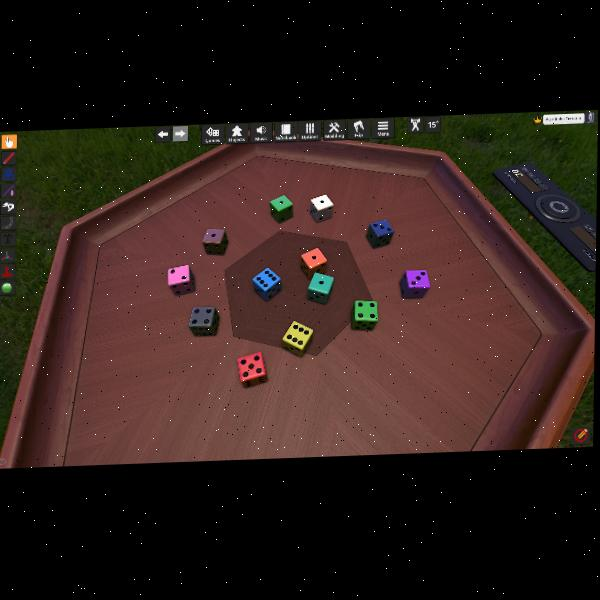d6: (252, 266, 283, 302), (282, 320, 312, 357), (237, 351, 268, 386), (187, 306, 217, 337), (398, 269, 427, 300), (307, 270, 334, 303), (300, 248, 326, 281), (167, 264, 194, 295), (365, 219, 392, 249), (351, 299, 377, 329), (202, 227, 227, 256), (270, 194, 294, 223), (308, 194, 331, 224)
